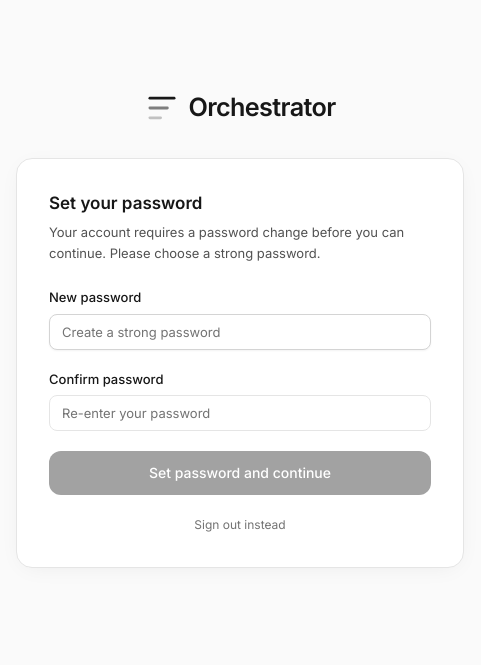
FirstPasswordChangePage — password rules › submit button enabled when all rules pass and passwords match
This screenshot has width=481, height=665.
Type "Abcdefgh1!" into the password field labelled "New password" at [240, 332], box [49,314,431,350]
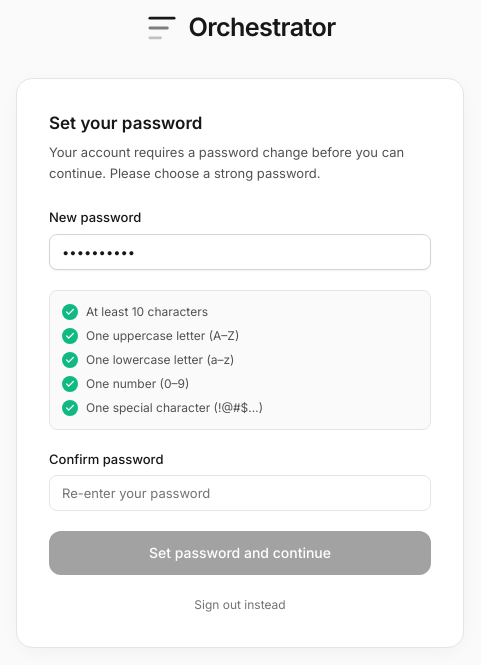
Type "Abcdefgh1!" into the password field labelled "Confirm password" at [240, 493], box [49,475,431,511]
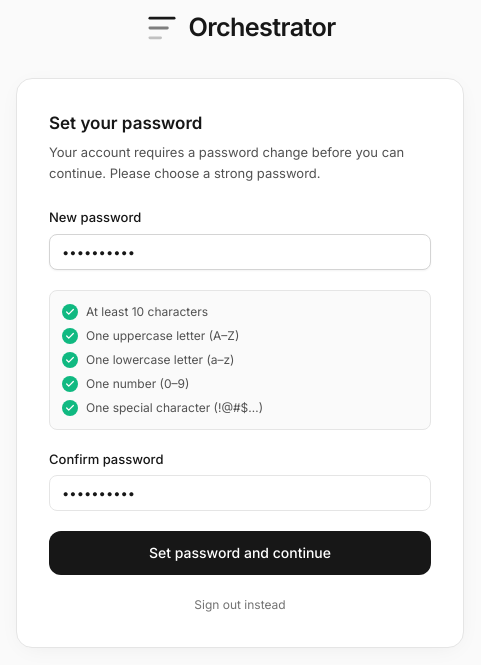
Check: the button "Set password and continue" is enabled, box [49,531,431,575]
